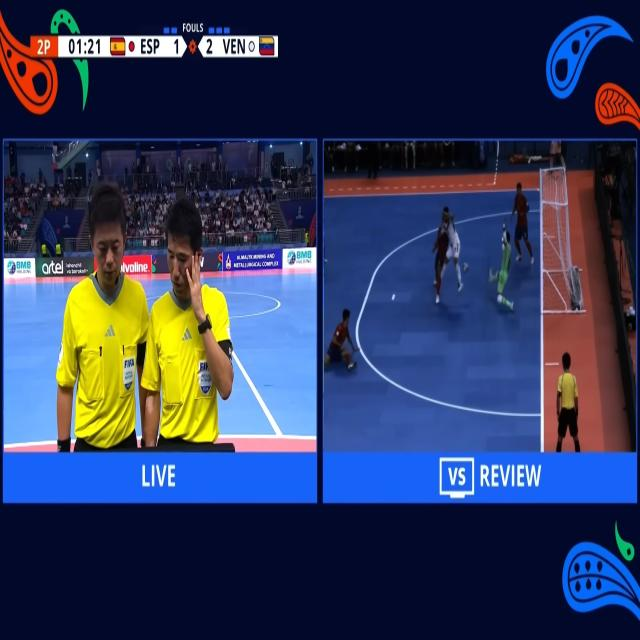Referee: (51, 198, 146, 451), (143, 206, 233, 435)
